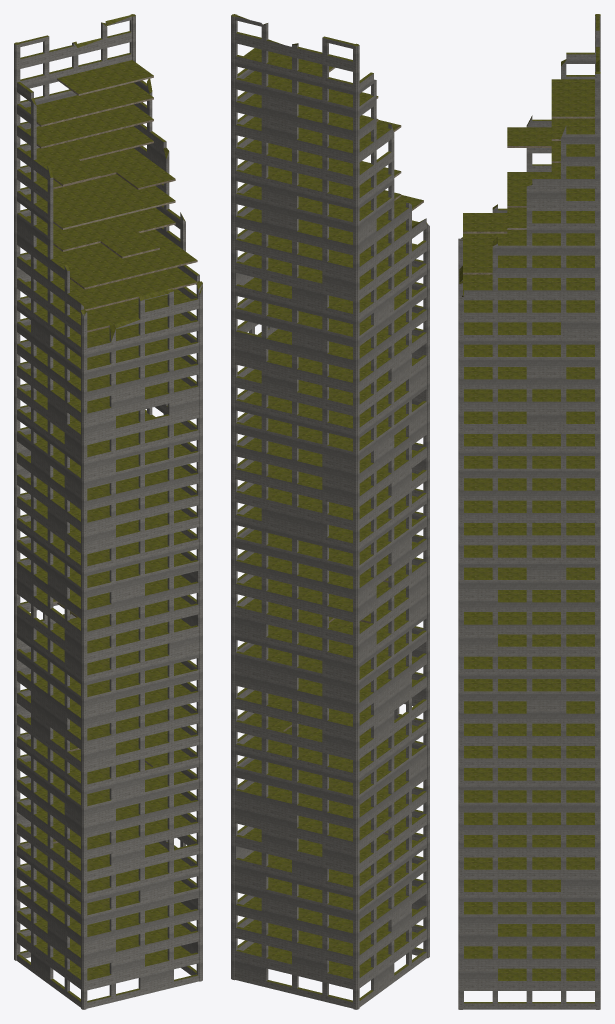
Rendered from tower_b.gltf.
3 renders of one model, left to right at view 1: azimuth 30°, elevation 25°; view 2: azimuth 150°, elevation 25°; view 3: azimuth 270°, elevation 25°, orthographic. The views are drawn at different scales.
Visible parts, largest first — view 1: tower_b; view 2: tower_b; view 3: tower_b.
Part boxes in pixels (<box>): tower_b: <box>14,14,202,1009</box>; tower_b: <box>231,14,429,1009</box>; tower_b: <box>458,14,600,1009</box>.
Size of the model in its own units: 20.8 by 151 by 20.8.
